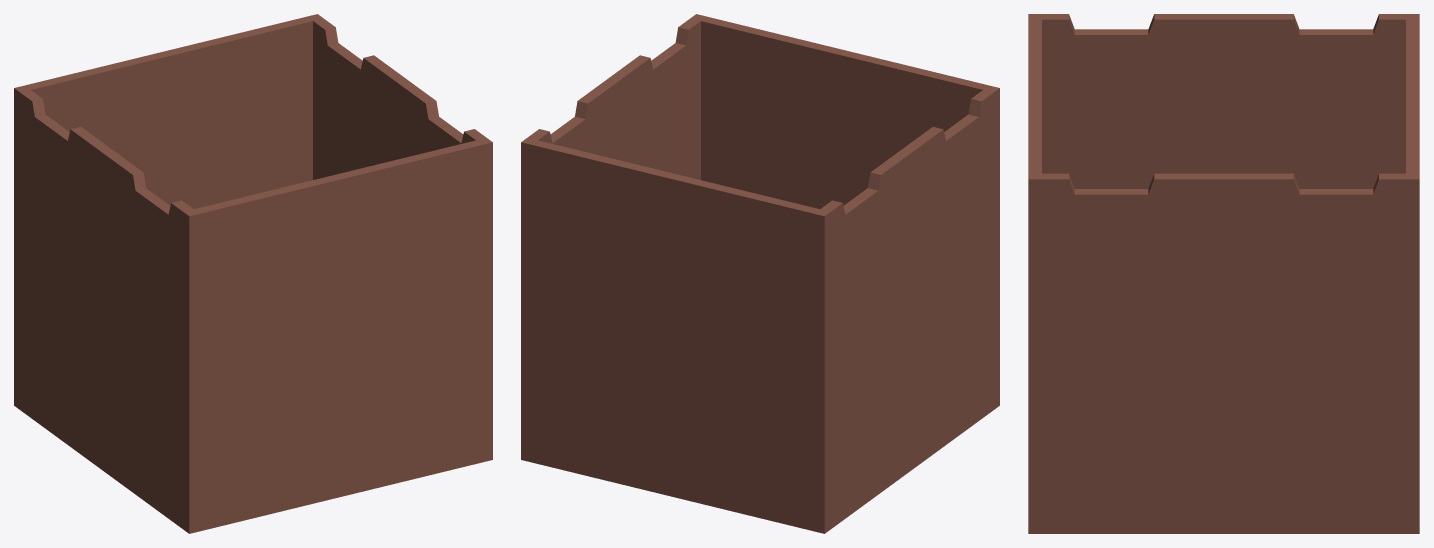
File: Caixote Aberto G Quad.fbx
3 renders of one model, left to right at view 1: azimuth 30°, elevation 25°; view 2: azimuth 150°, elevation 25°; view 3: azimuth 270°, elevation 25°, orthographic. The views are drawn at different scales.
Visible parts, largest first — view 1: Cubo.040; view 2: Cubo.040; view 3: Cubo.040.
Boxes of the visible parts, box(x1,y1,x2,y2) form: Cubo.040: box(14, 14, 492, 533); Cubo.040: box(521, 14, 999, 533); Cubo.040: box(1028, 14, 1419, 533).
Bounding box in the file's own units: 200 × 200 × 200.
